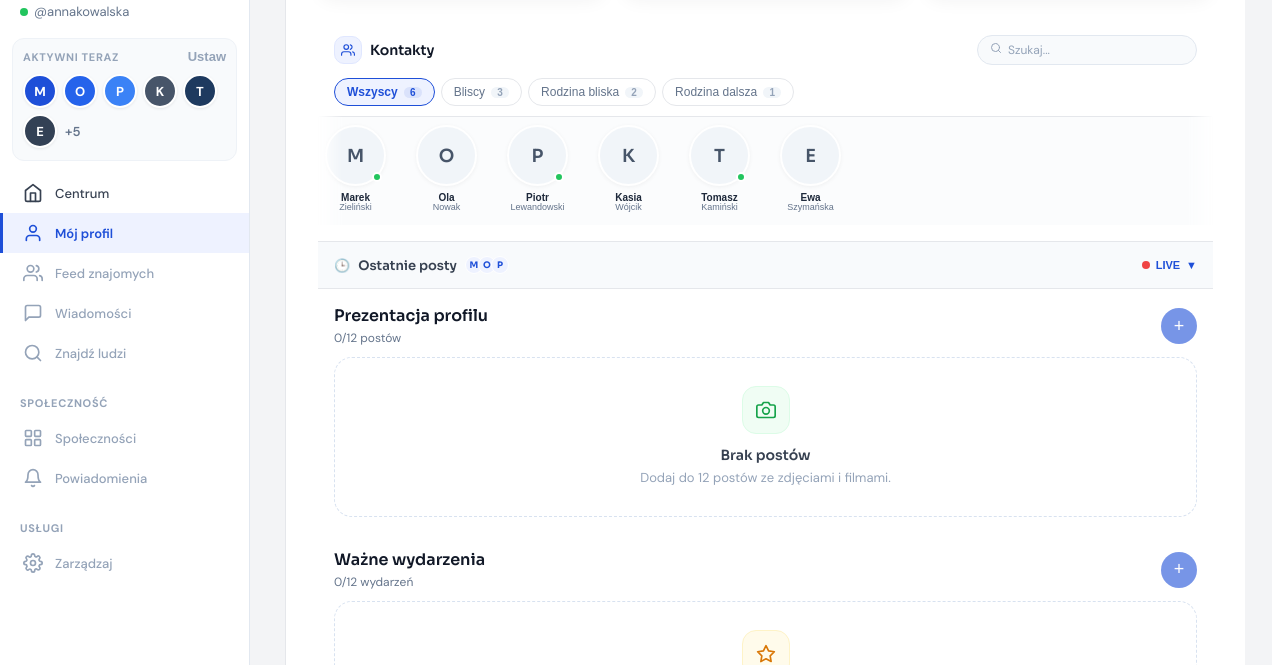
ProfilePage — personal profile mobile shell › quick feed tile click opens a local post-detail sheet (visual shell)
(page scrolled)
What coordinates should you click on to do the following:
click the button "🕒 Ostatnie posty M O P LIVE ▼"
I would click on:
 (408, 265)
Its box is left=318, top=241, right=1213, bottom=289.
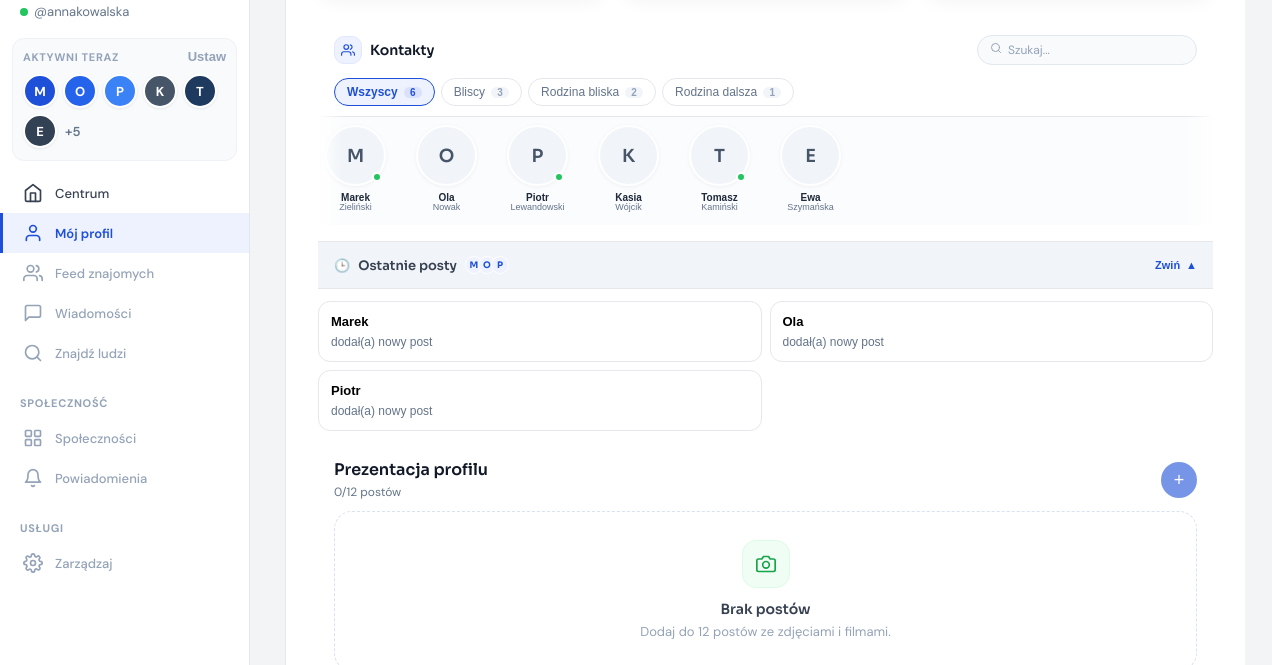
What coordinates should you click on to do the following:
click the button "Marek dodał(a) nowy post"
I would click on:
 (350, 322)
Its box is left=318, top=301, right=762, bottom=362.
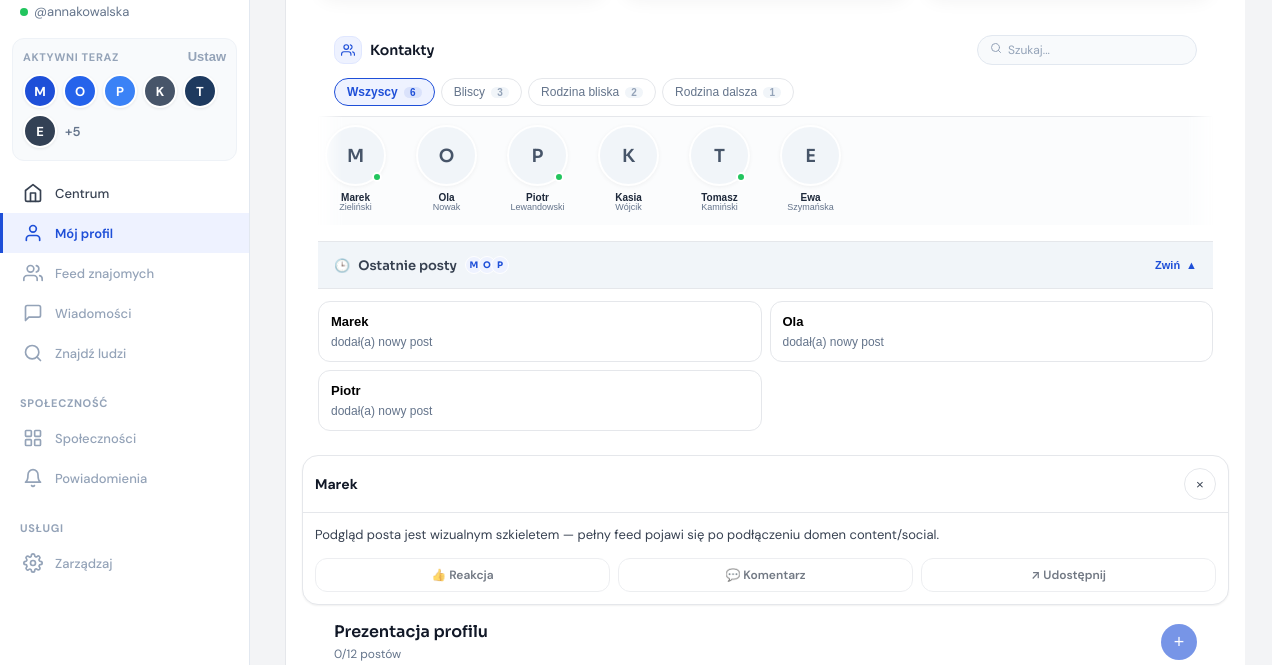
Check: the dialog "Podgląd posta" is shown, box left=302, top=455, right=1229, bottom=605
Check: the text "Podgląd posta jest wizualnym szkieletem" is shown, box left=315, top=526, right=939, bottom=543
